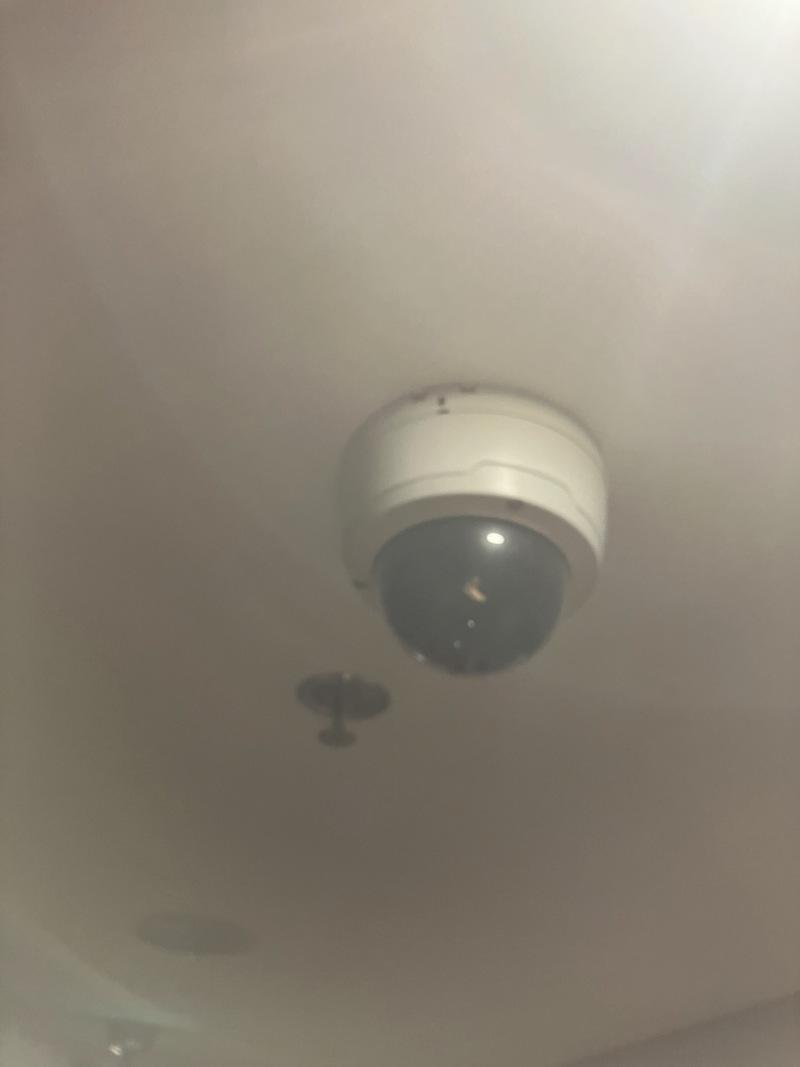dome: (319, 381, 623, 690)
